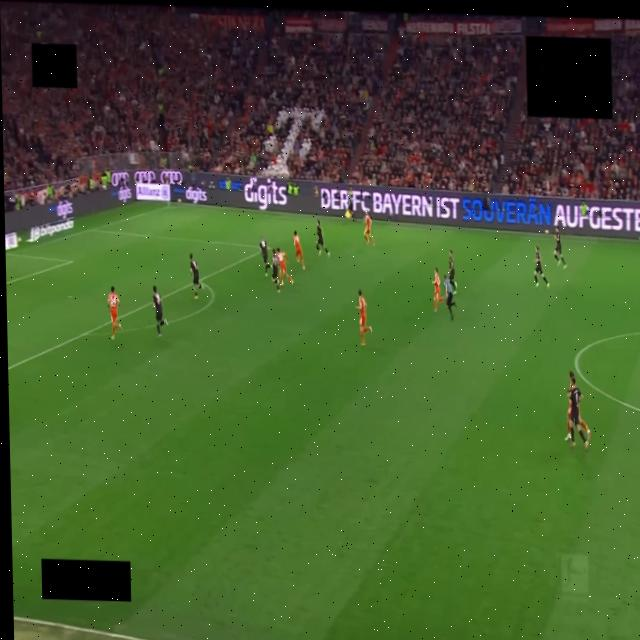player: (569, 380, 589, 449), (357, 290, 372, 346), (153, 285, 167, 338), (276, 248, 293, 286), (108, 286, 120, 339), (566, 371, 575, 440), (535, 246, 549, 287), (554, 225, 567, 268), (190, 253, 202, 299), (316, 220, 329, 256), (259, 237, 270, 276), (294, 232, 305, 270), (433, 268, 441, 312), (272, 249, 280, 292), (364, 211, 374, 245), (449, 250, 456, 292)
referee: (444, 276, 456, 320)
